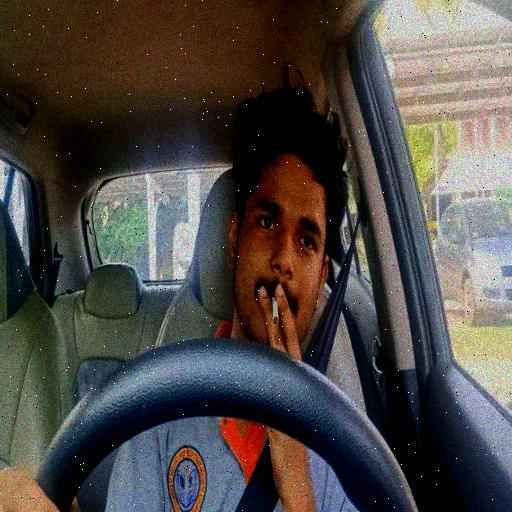Smoking: (0, 81, 404, 512)
